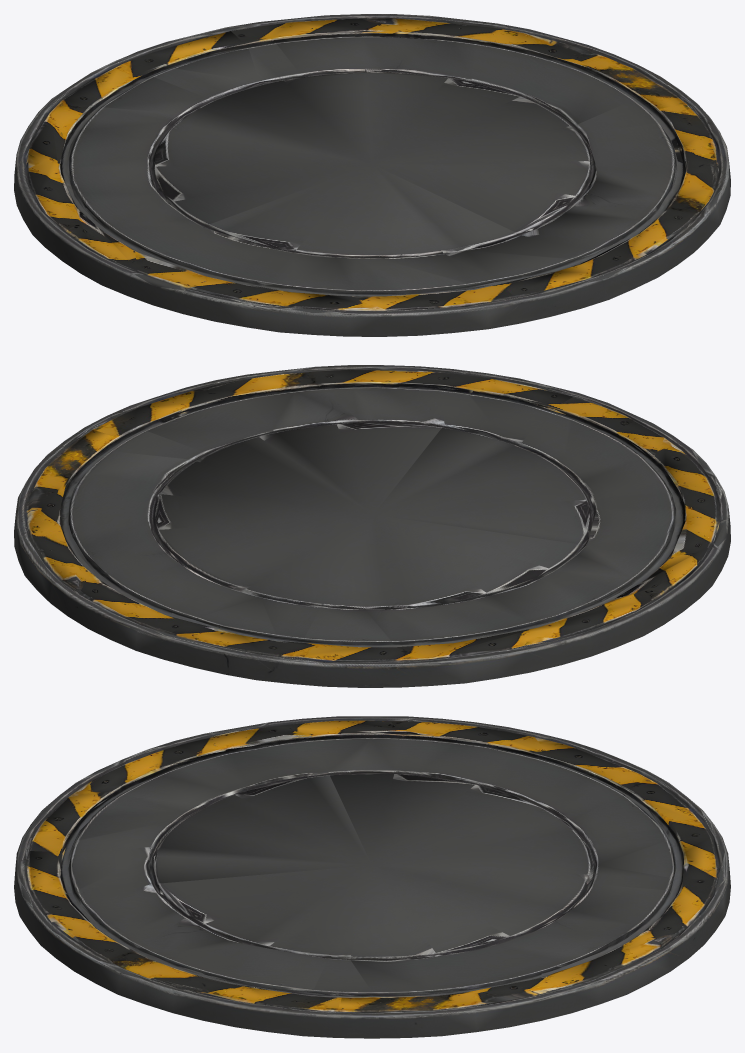
File: turntable.glb
3 renders of one model, top to bottom at view 1: azimuth 30°, elevation 25°; view 2: azimuth 150°, elevation 25°; view 3: azimuth 270°, elevation 25°, orthographic.
Visible parts, largest first — view 1: tripo_node_76c90f87-0e68-48b3-b9f3-2879ea555e6d; view 2: tripo_node_76c90f87-0e68-48b3-b9f3-2879ea555e6d; view 3: tripo_node_76c90f87-0e68-48b3-b9f3-2879ea555e6d.
Boxes of the visible parts, x1,y1,x2,y2 form: tripo_node_76c90f87-0e68-48b3-b9f3-2879ea555e6d: (14, 14, 730, 336); tripo_node_76c90f87-0e68-48b3-b9f3-2879ea555e6d: (14, 365, 730, 687); tripo_node_76c90f87-0e68-48b3-b9f3-2879ea555e6d: (14, 716, 730, 1038).
Bounding box in the file's own units: 3.8 × 0.1264 × 3.8.
Materials: 1 (1 with a texture image).
